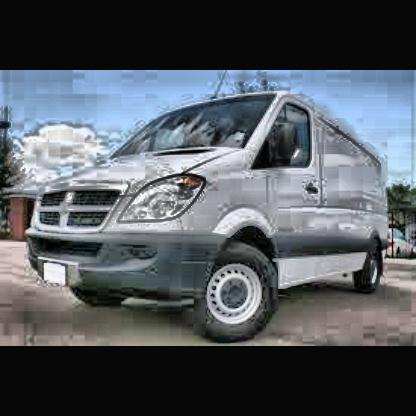Dodge Sprinter Cargo Van 2009: (27, 76, 394, 334)
